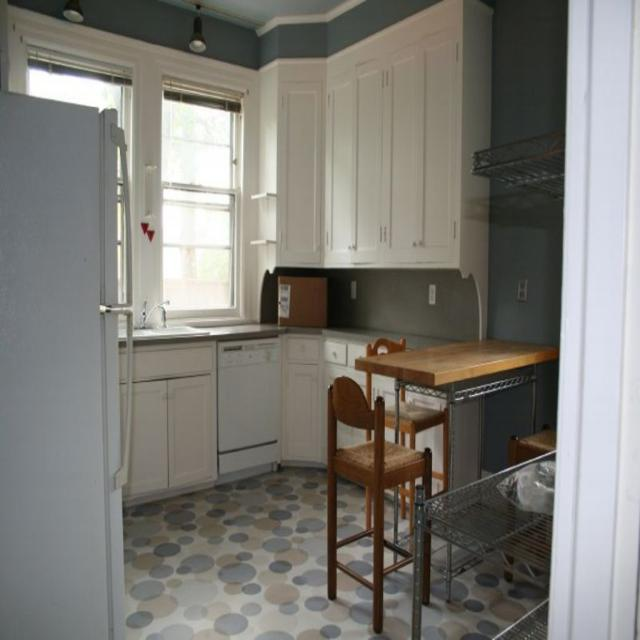chair: (326, 373, 432, 634)
desk: (358, 338, 548, 540)
